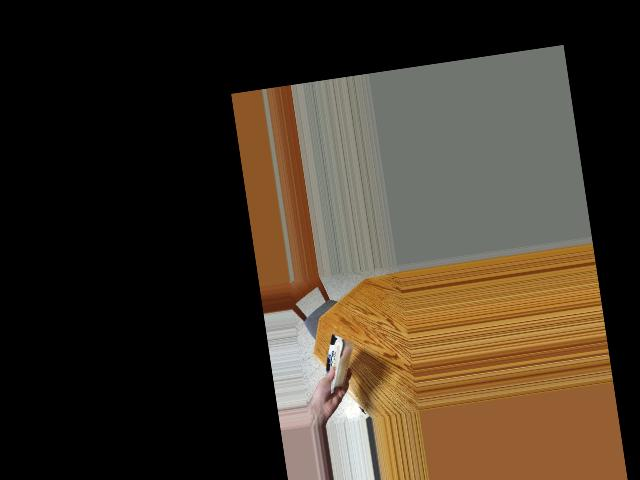cheese: (311, 333, 361, 390)
